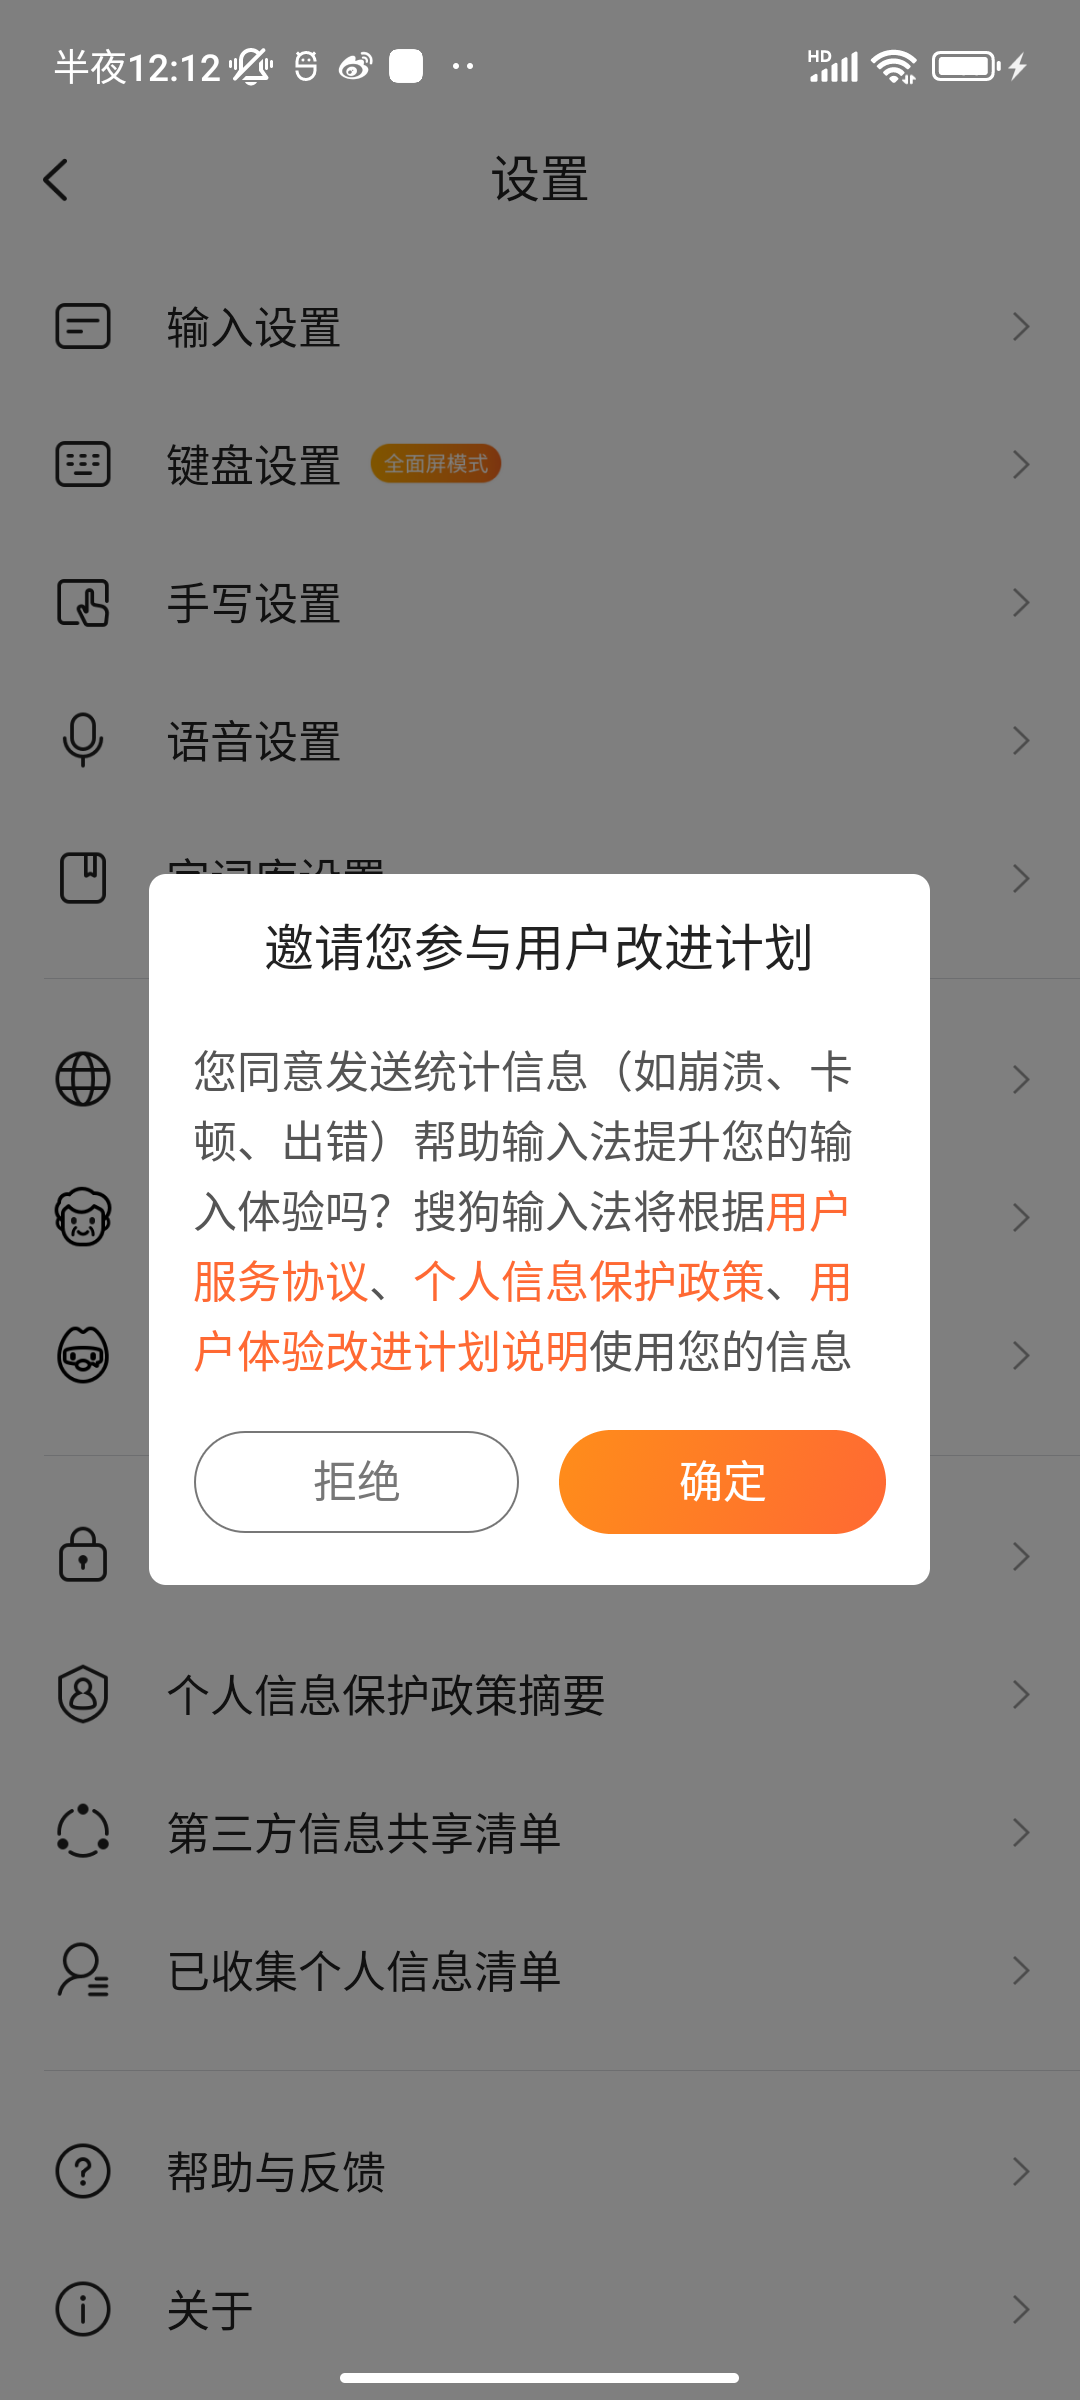ui_group: (155, 882, 925, 1586), (20, 412, 1039, 516)
